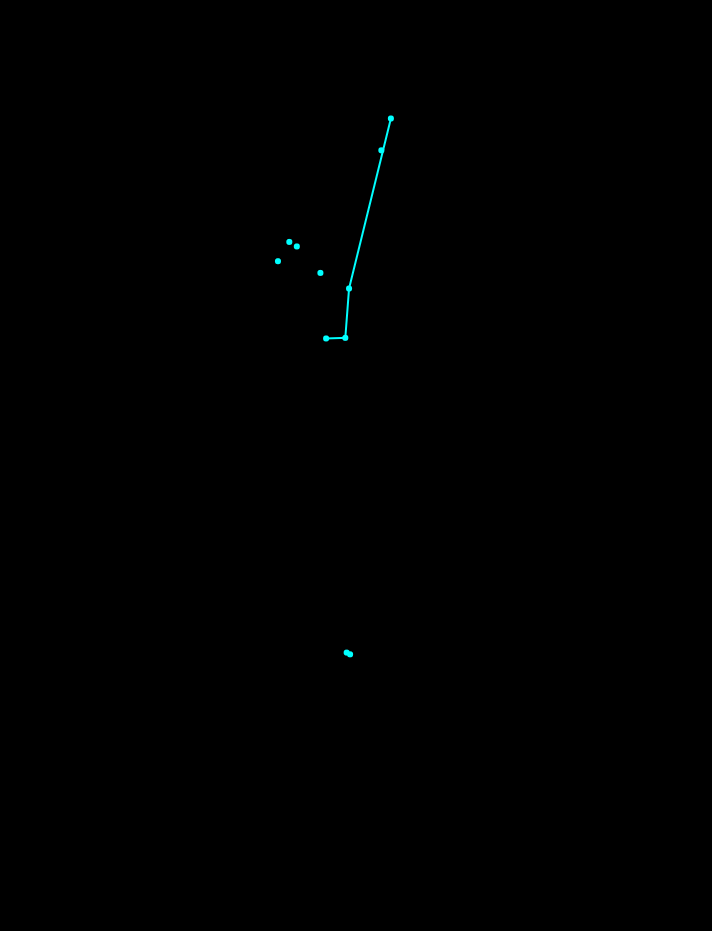warrior_1: (219, 69, 429, 687)
